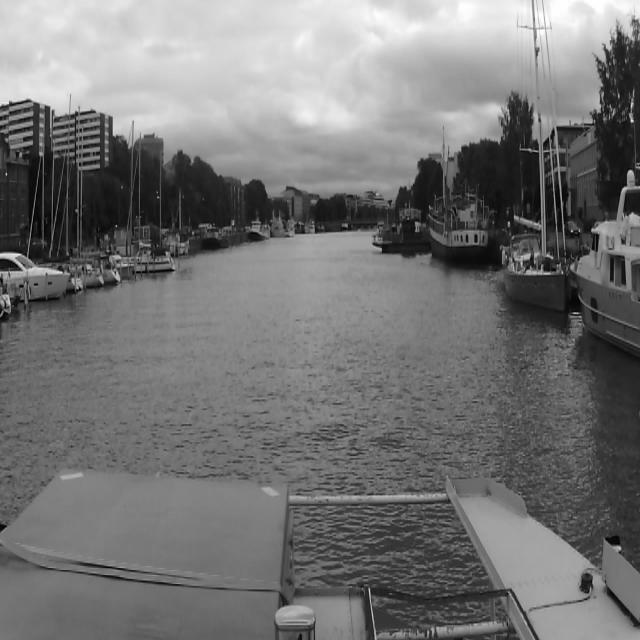ship: (501, 0, 569, 318), (571, 161, 639, 367), (75, 103, 121, 284), (136, 130, 176, 274), (428, 178, 490, 266), (0, 250, 69, 306), (372, 216, 428, 255)
